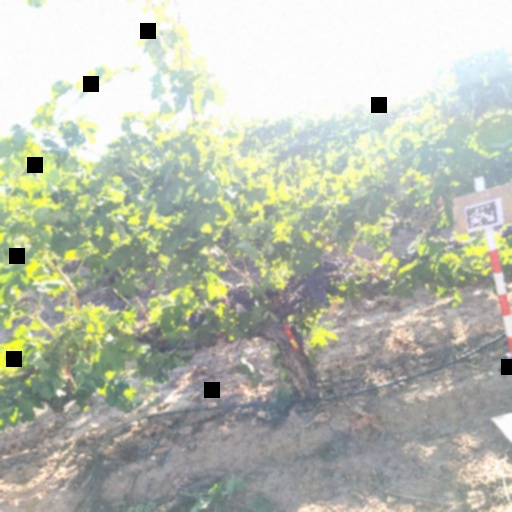QR: (465, 201, 499, 230)
